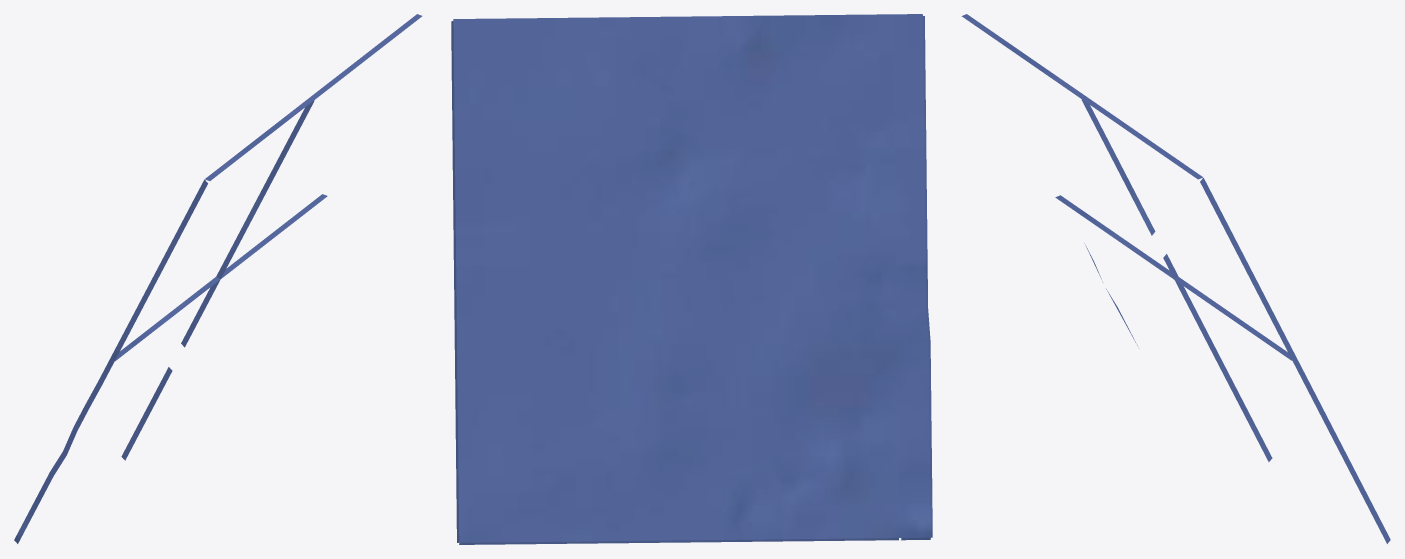
3 renders of one model, left to right at view 1: azimuth 30°, elevation 25°; view 2: azimuth 150°, elevation 25°; view 3: azimuth 270°, elevation 25°, orthographic. The views are drawn at different scales.
Bounding box in the file's own units: 39501 × 35624 × 33432.
Materials: 1 (1 with a texture image).
